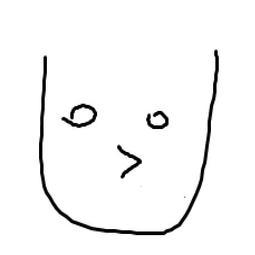empty_eye: (51, 101, 103, 132), (141, 109, 176, 136)
pointy_nose: (114, 141, 148, 180)
